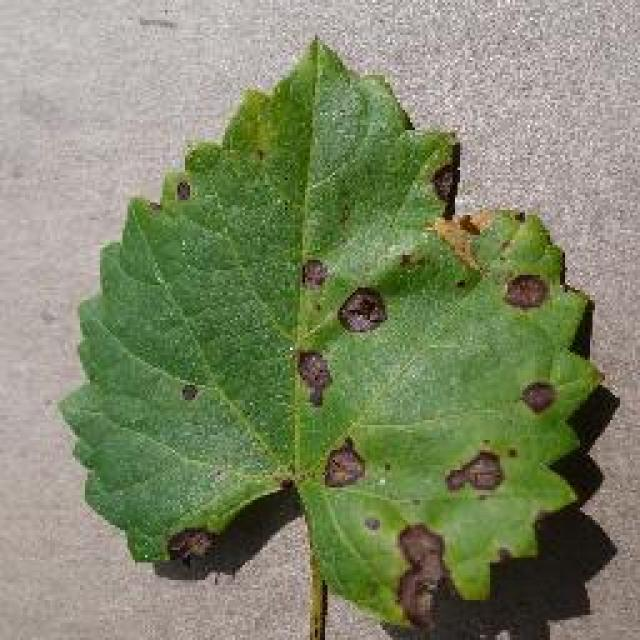Grape___Black_rot: (52, 29, 612, 634)
